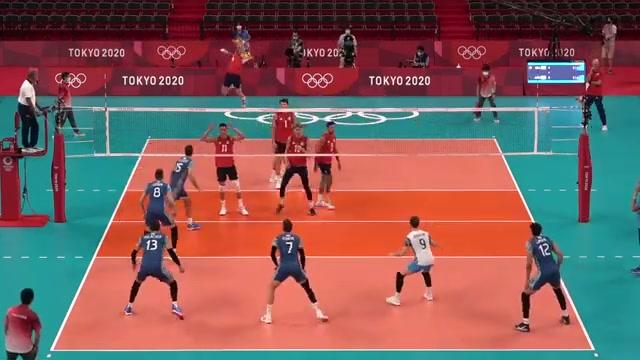ball: (238, 49, 254, 63)
